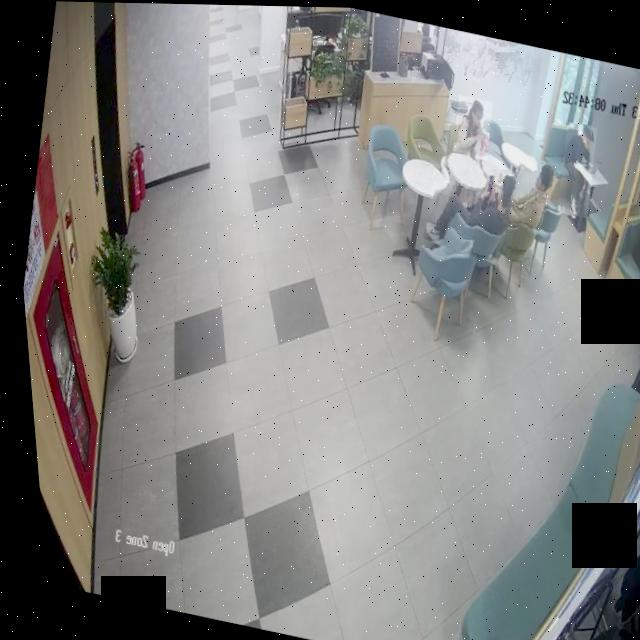person: (414, 144, 524, 264), (548, 119, 601, 216), (496, 150, 557, 234), (607, 201, 640, 325), (446, 92, 495, 159)
